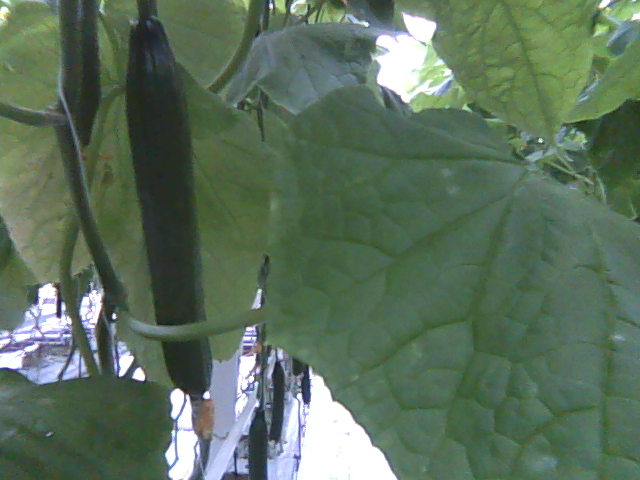concombre: (123, 1, 214, 442)
